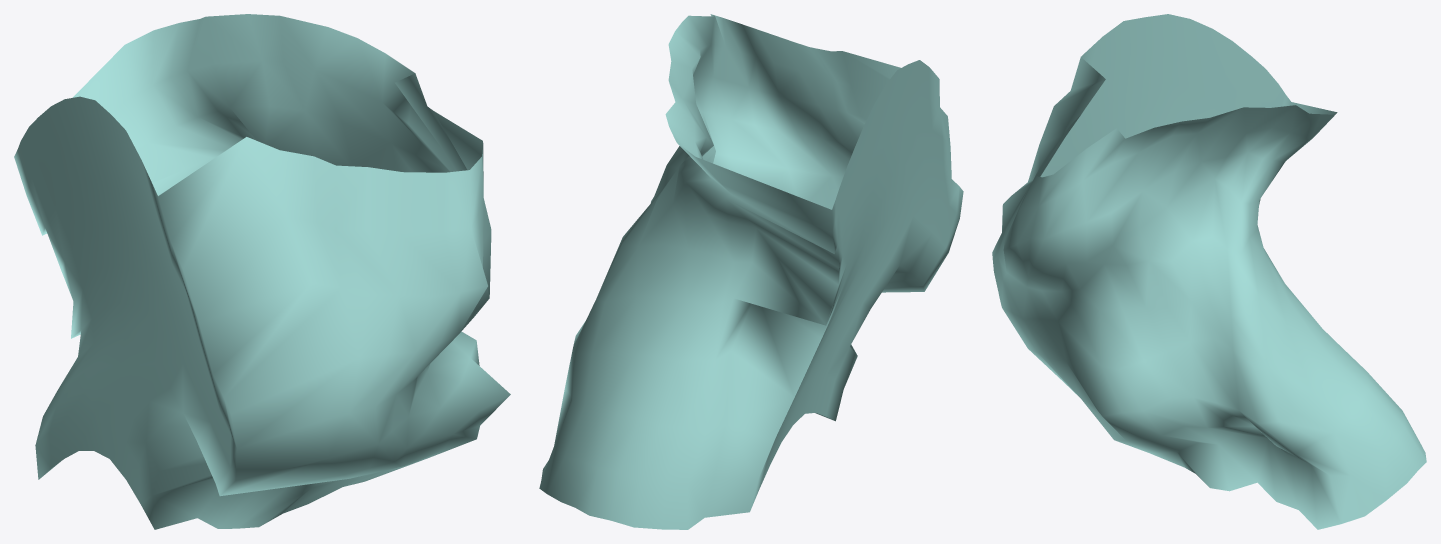
Rendered from icestage3.FBX.
The picture shows the model from 3 angles, left to right: view 1: azimuth 30°, elevation 25°; view 2: azimuth 150°, elevation 25°; view 3: azimuth 270°, elevation 25°; orthographic projection. The views are drawn at different scales.
Parts seen in each view (by area): view 1: Cylinder001; view 2: Cylinder001; view 3: Cylinder001.
Part boxes in pixels (left/top/right/bottom): Cylinder001: left=14, top=14, right=510, bottom=529; Cylinder001: left=539, top=14, right=963, bottom=529; Cylinder001: left=992, top=14, right=1426, bottom=529.
Size of the model in its own units: 116 by 153 by 156.
